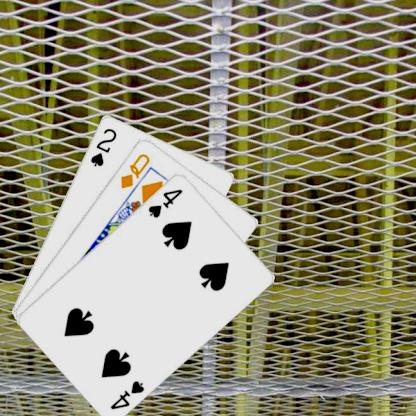2S: (87, 125, 118, 168)
4S: (145, 185, 184, 219), (108, 377, 146, 411)
QD: (118, 150, 152, 190)
